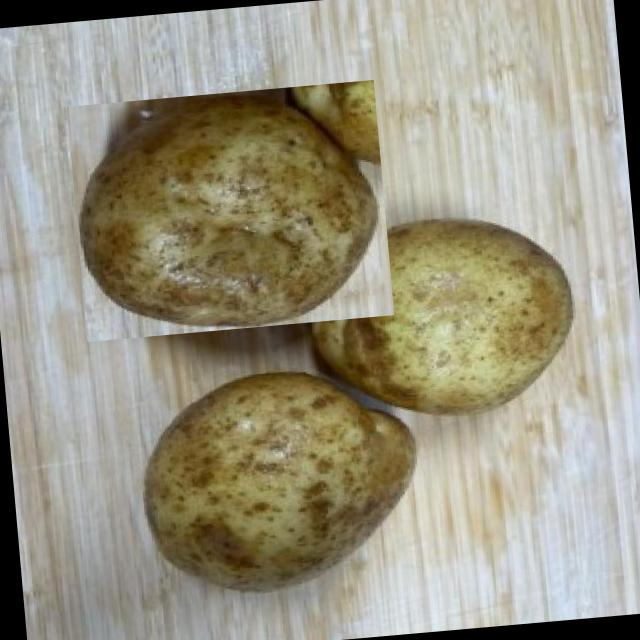Diseased-fungal potato: (66, 78, 394, 340), (134, 357, 432, 607), (303, 206, 586, 430)
